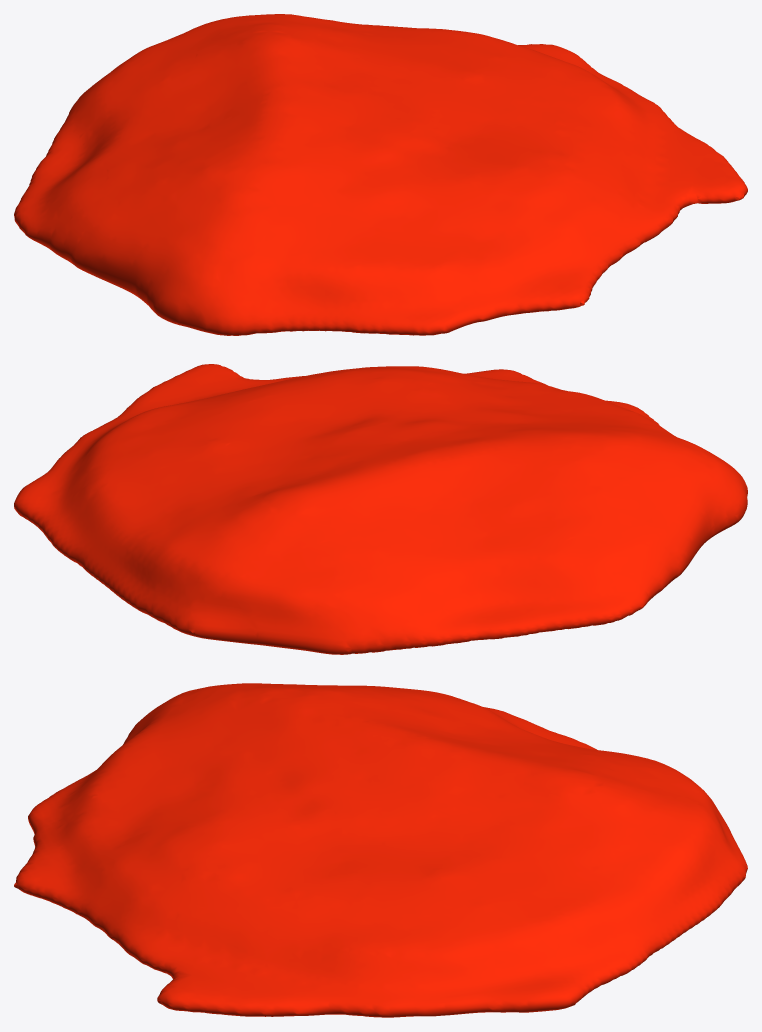
Rendered from blood_stain_2.glb.
3 views of the same model, one above another, from view 1: azimuth 30°, elevation 25°; view 2: azimuth 150°, elevation 25°; view 3: azimuth 270°, elevation 25° (orthographic). The views are drawn at different scales.
Parts seen in each view (by area): view 1: Blood_Dripping_Floor; view 2: Blood_Dripping_Floor; view 3: Blood_Dripping_Floor.
Boxes of the visible parts, x1=… form: Blood_Dripping_Floor: x1=14, y1=14, x2=747, y2=335; Blood_Dripping_Floor: x1=14, y1=364, x2=747, y2=654; Blood_Dripping_Floor: x1=14, y1=683, x2=747, y2=1017.
Size of the model in its own units: 0.2119 by 0.0305 by 0.215.
